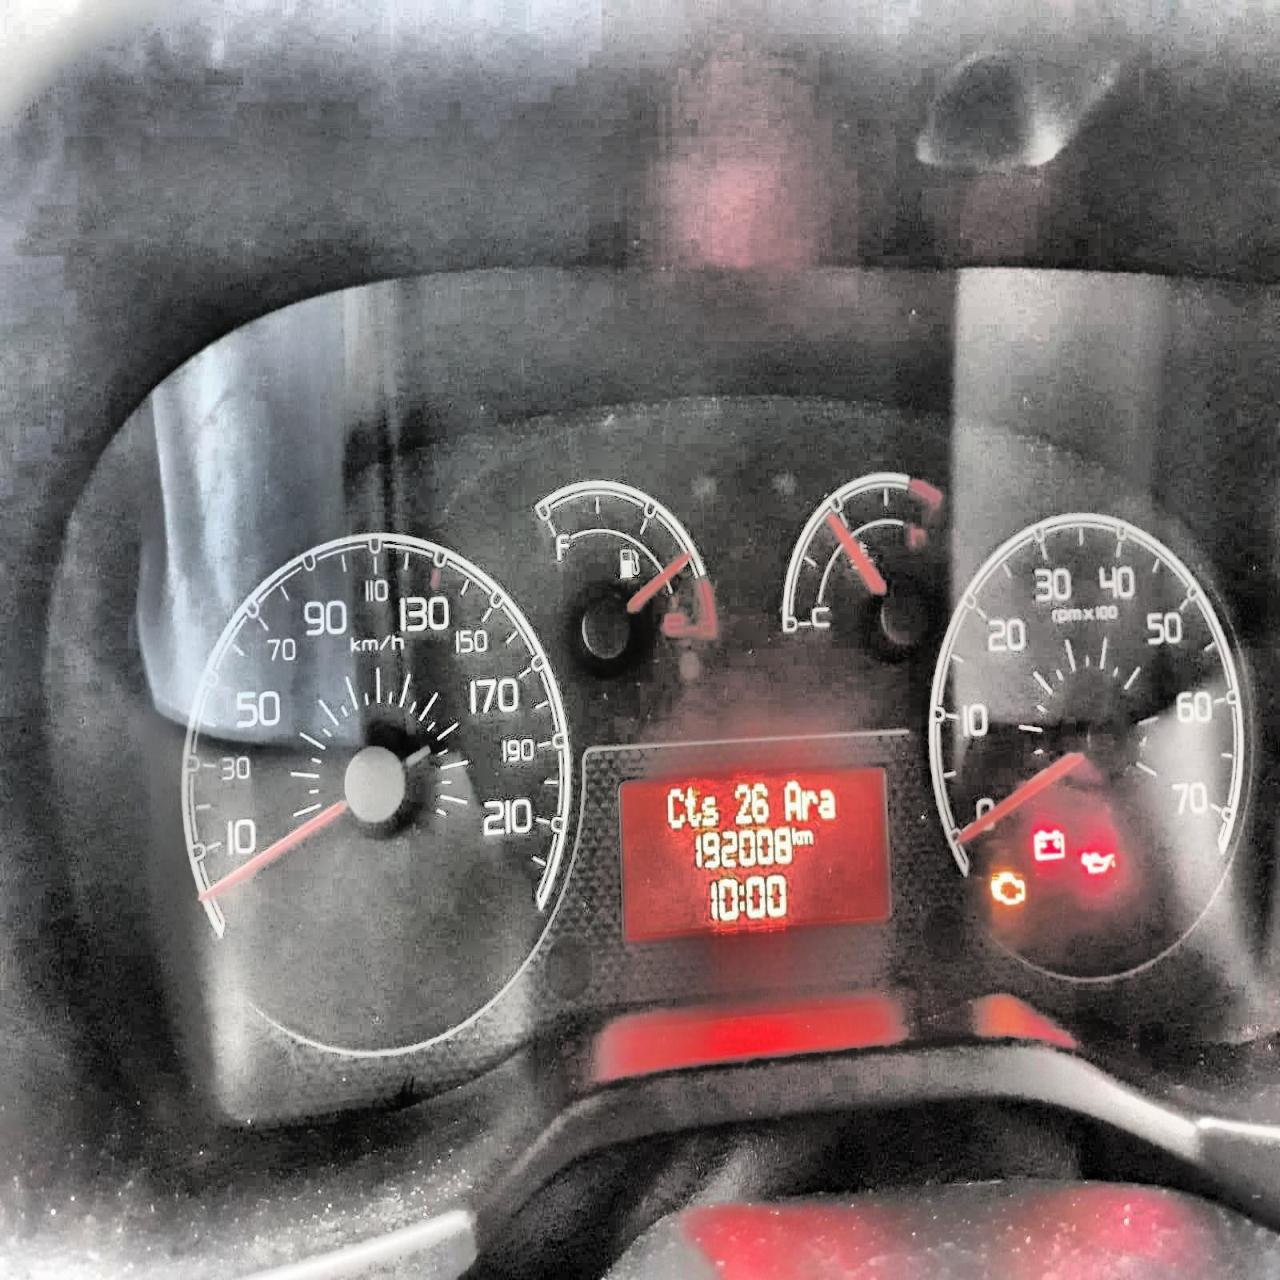0: (765, 872, 788, 919), (719, 876, 738, 920), (745, 874, 765, 919), (755, 825, 774, 867), (737, 826, 755, 867)
1: (708, 879, 717, 922), (693, 832, 703, 870)
2: (733, 782, 753, 828), (721, 828, 737, 869)
6: (753, 779, 770, 823)
8: (774, 823, 791, 864)
9: (703, 829, 720, 867)
X: (666, 787, 685, 831), (783, 778, 802, 822), (686, 785, 701, 829), (701, 792, 720, 828), (801, 787, 818, 819), (819, 787, 837, 819), (799, 828, 812, 845), (791, 824, 799, 845), (738, 881, 744, 911)
odometer: (615, 763, 896, 940)
